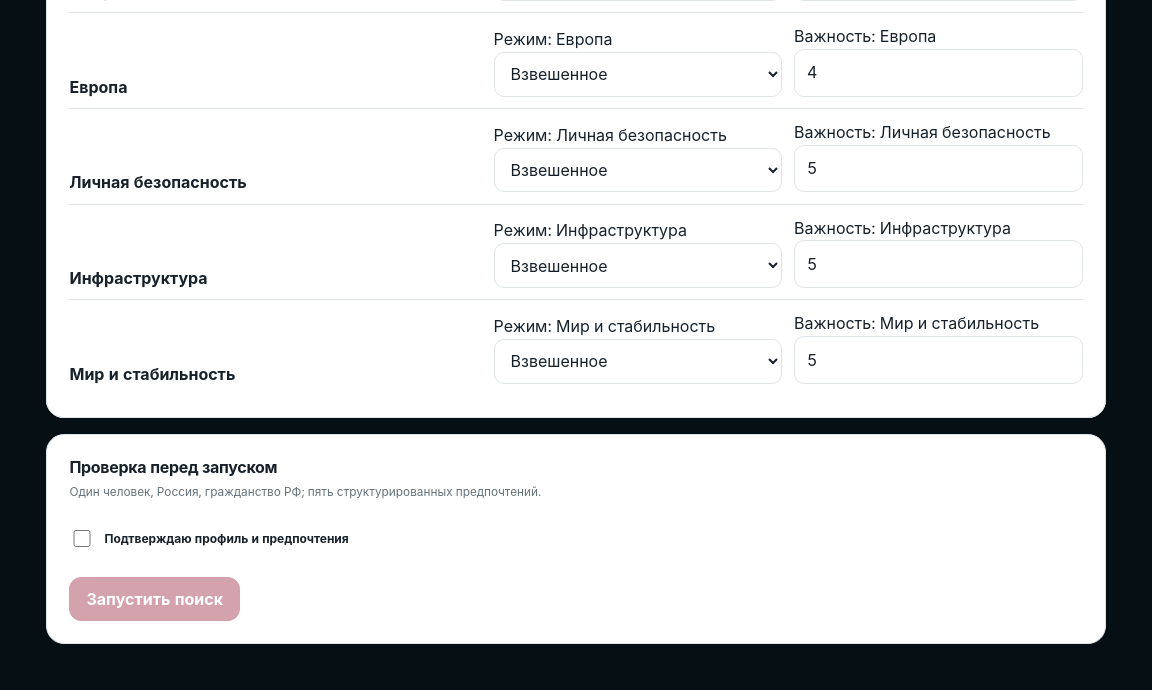
Scenario: place-frontier setup › shows a specific invalid-profile error and a generic launch error
The image size is (1152, 690).
(page scrolled)
Click the checkbox labelled "Подтверждаю профиль и предпочтения". click: (82, 539)
box: 74,530 -> 91,547
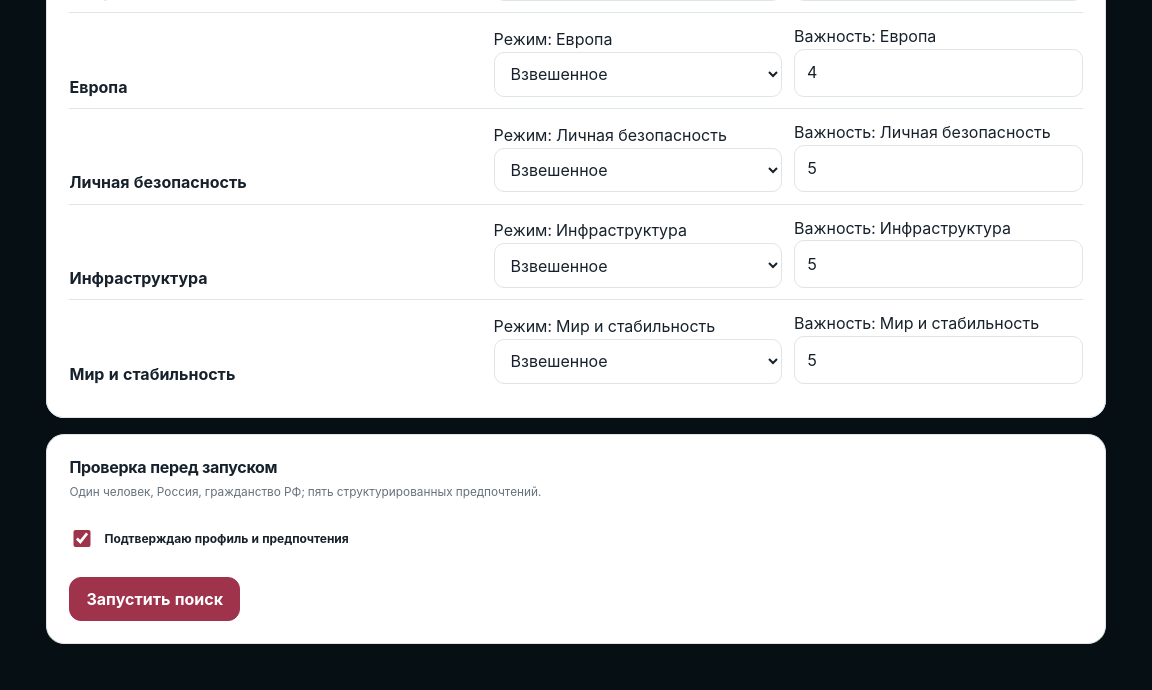
Click the button "Запустить поиск". click: (155, 599)
box: 70,577 -> 240,621
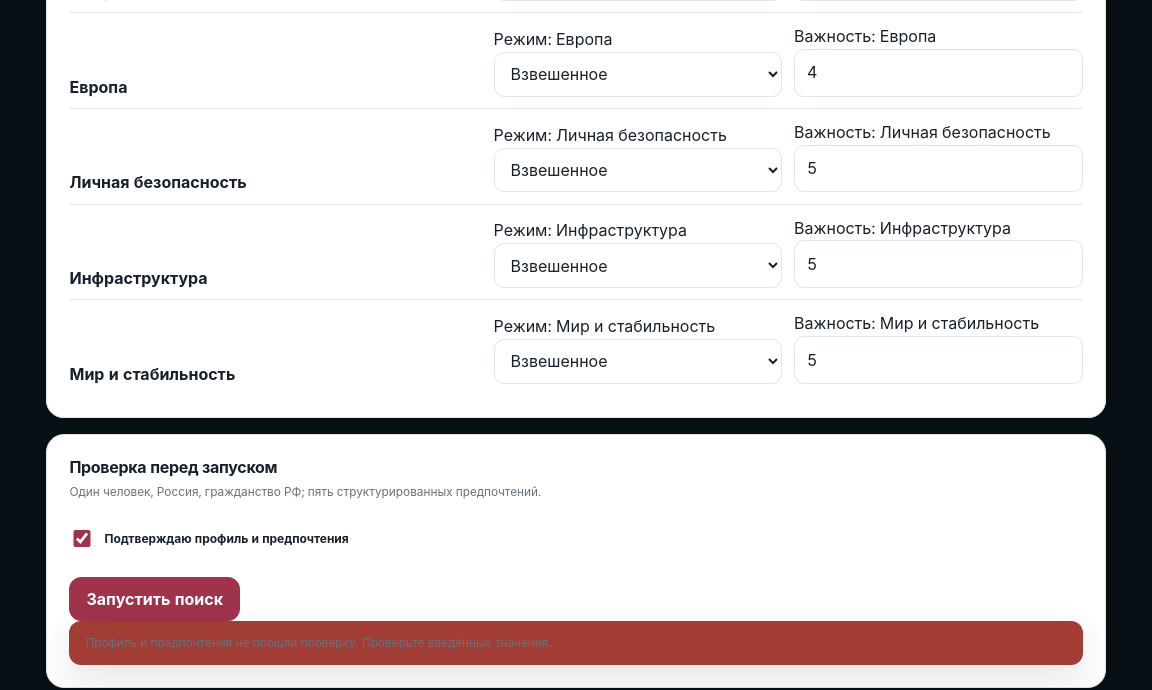
Expected: the message reads "Профиль и предпочтения не прошли проверку. Проверьте введённые значения.", 86,636 -> 552,650
Click the button "Запустить поиск". click: (155, 599)
box: 70,577 -> 240,621
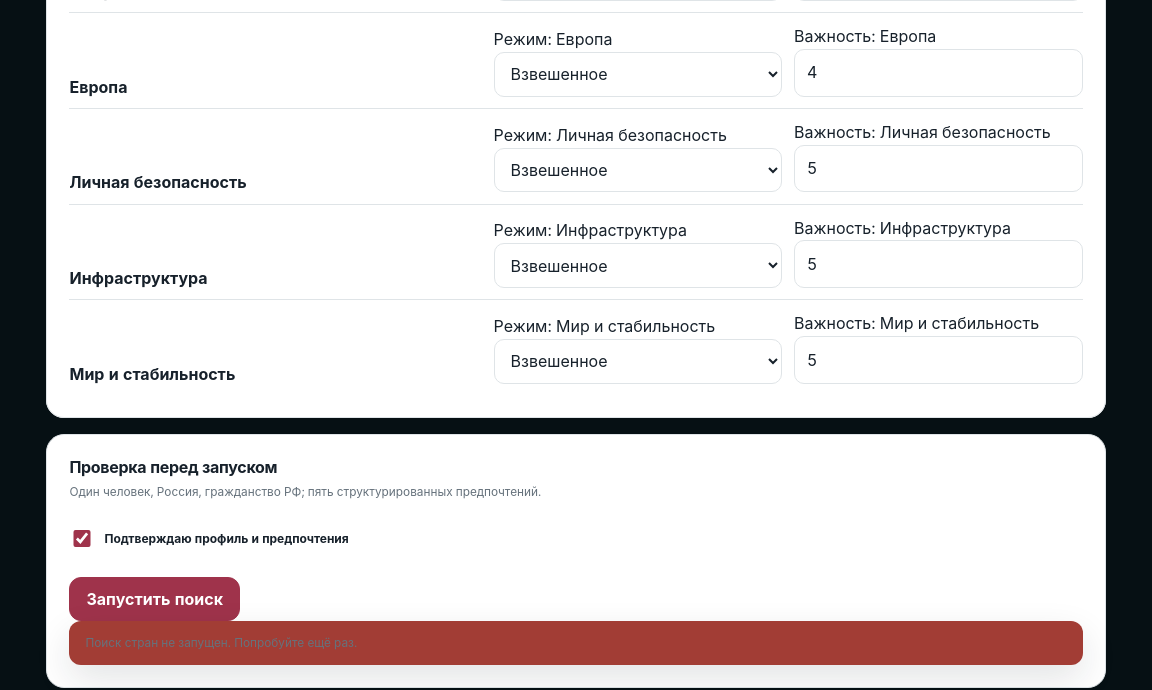
Expected: the message shows "не запущен", 86,636 -> 357,650
